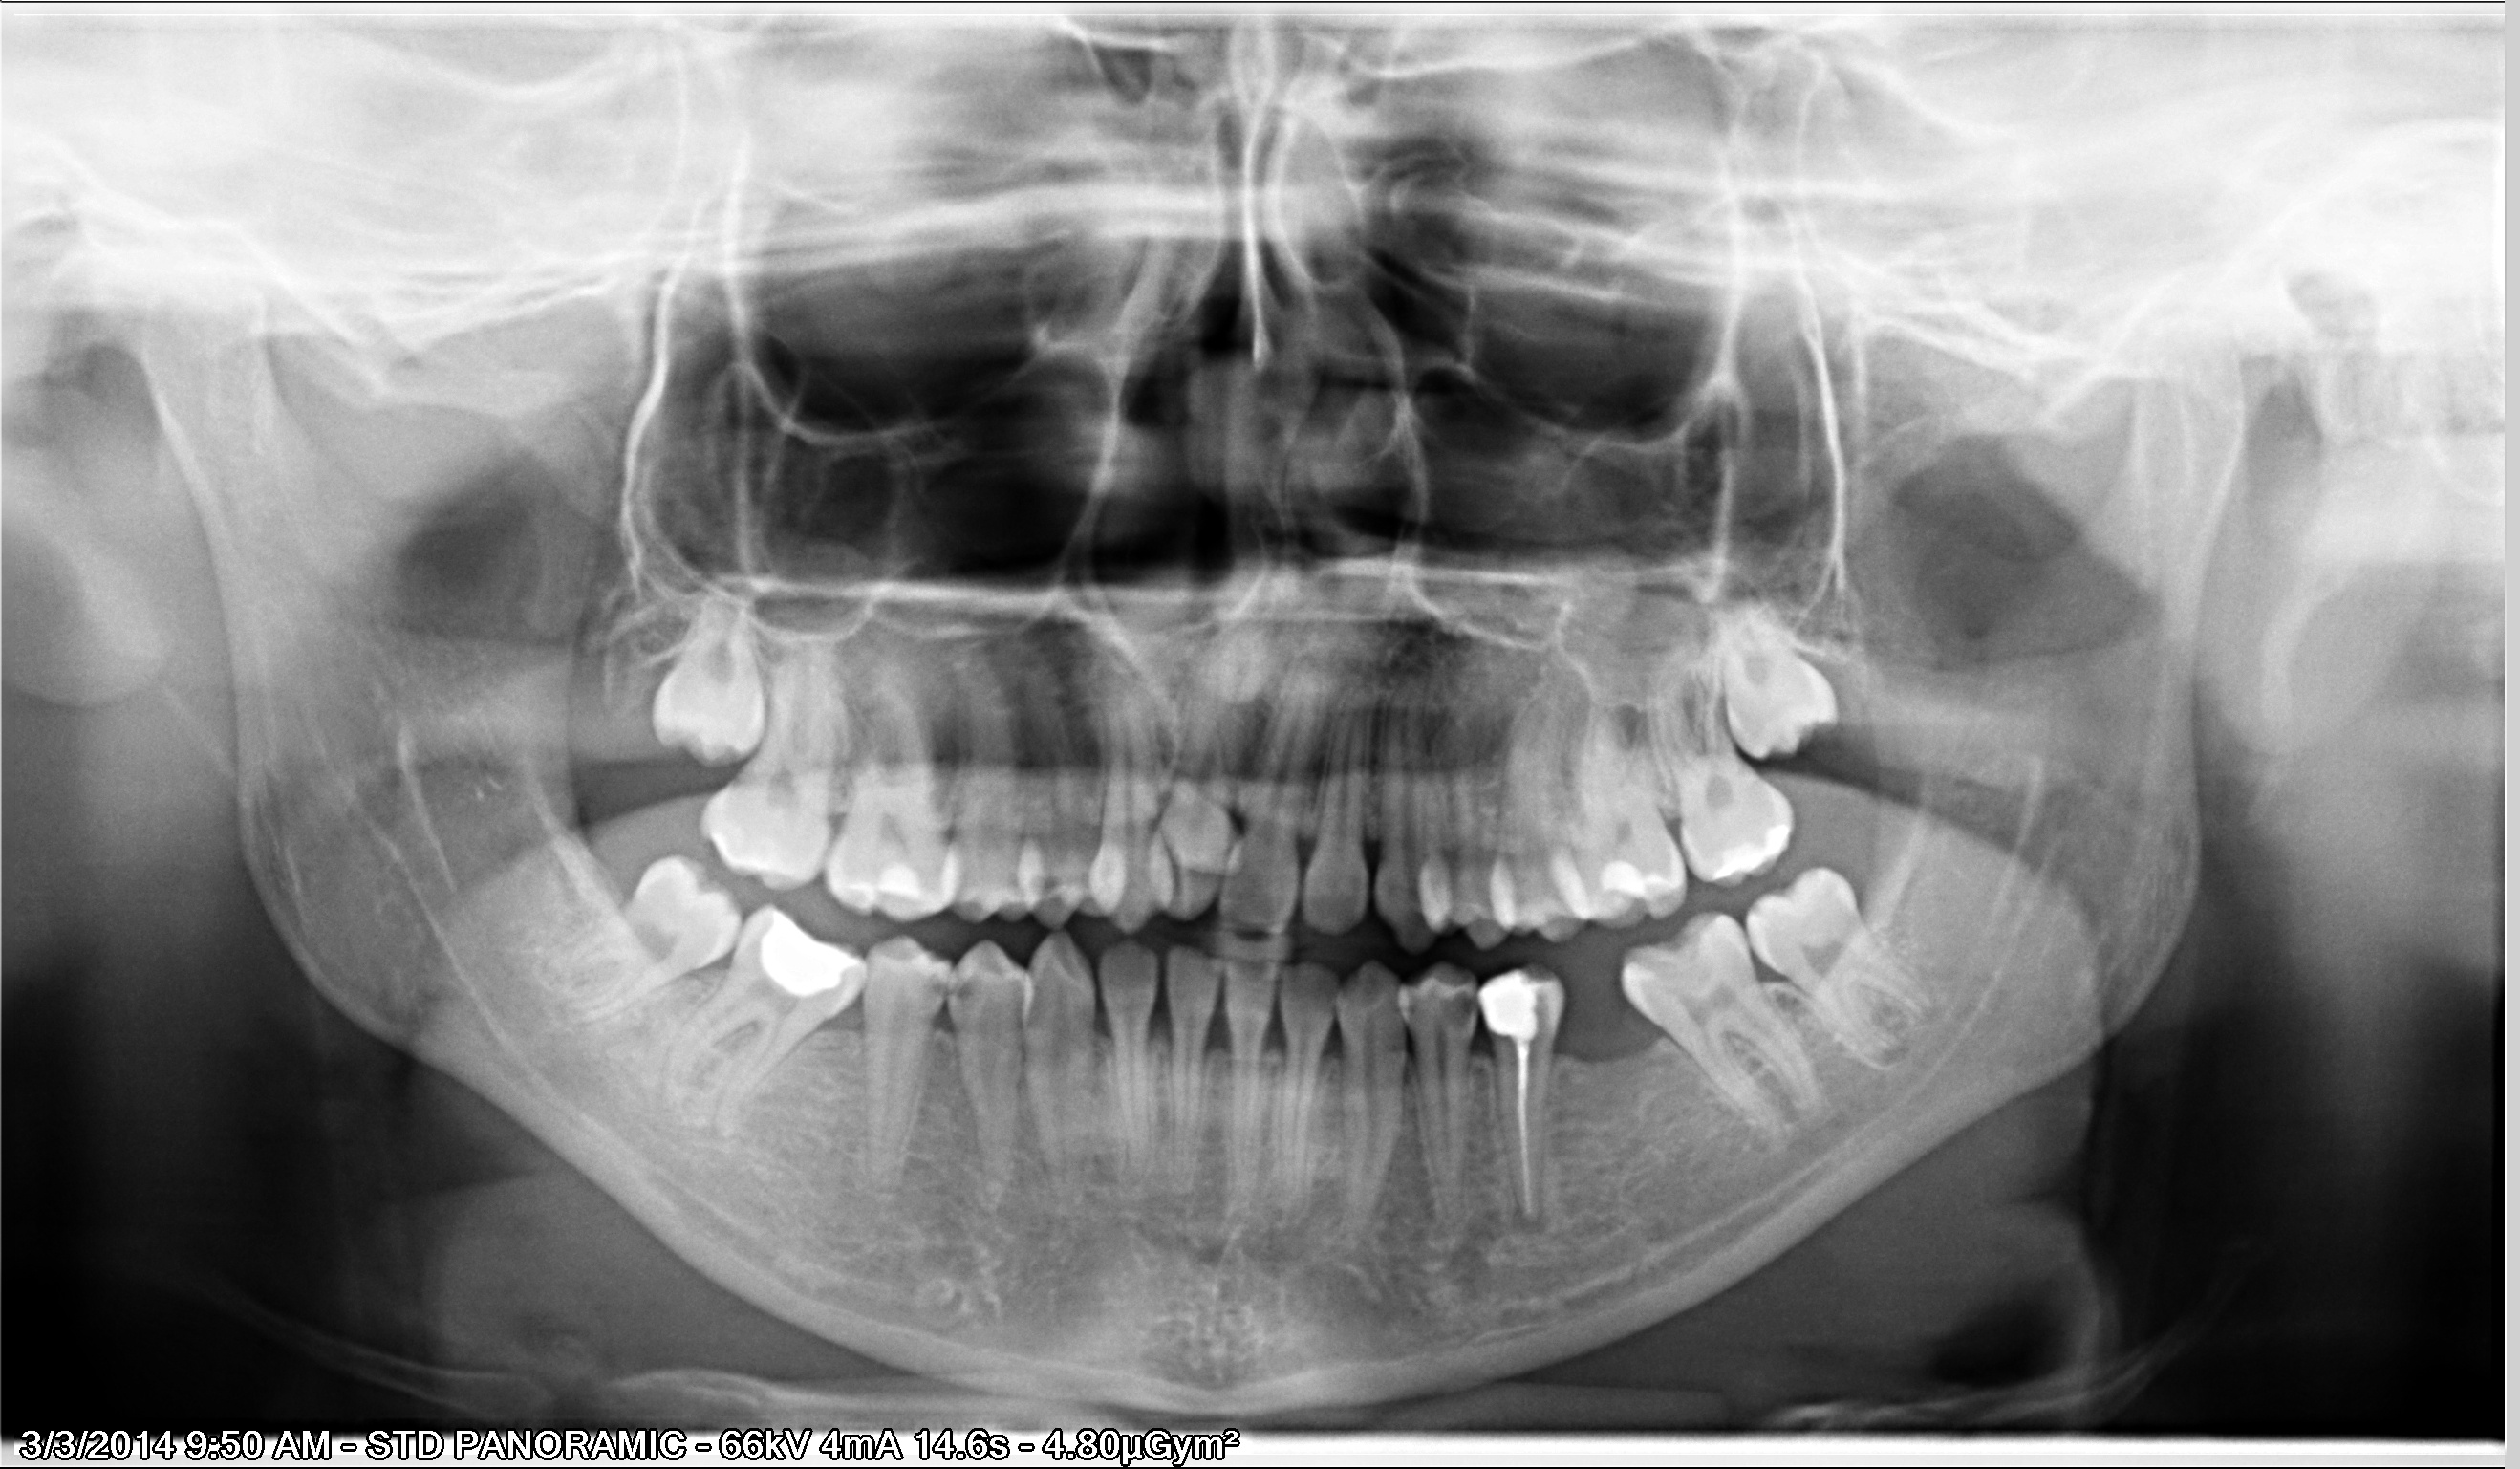API: (1489, 1191, 1571, 1264)
CAR: (1417, 983, 1478, 1046), (951, 960, 1005, 1020), (916, 964, 949, 1009)
END: (1501, 1035, 1552, 1226)
PRR: (750, 899, 855, 1007), (1702, 806, 1795, 897), (1480, 971, 1548, 1056), (1592, 839, 1664, 909), (863, 853, 935, 916)
